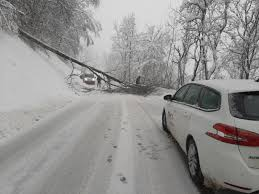car: (160, 83, 259, 193)
obstacle: (67, 55, 163, 104)
